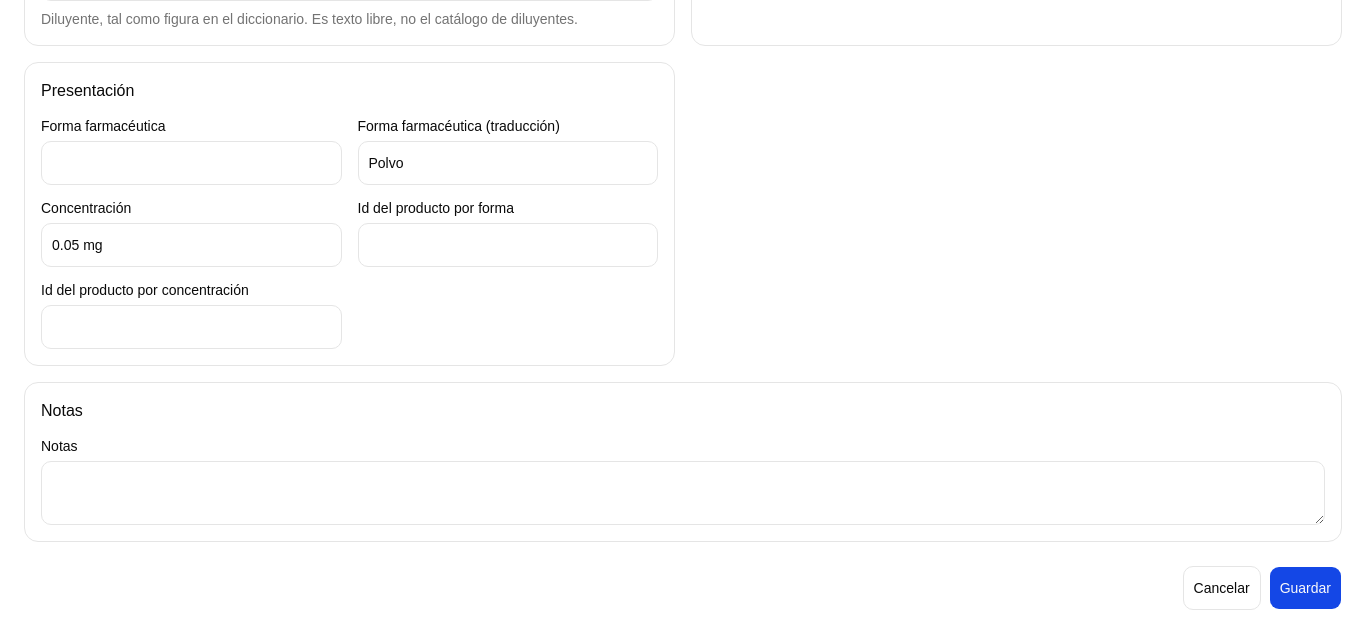
Test case: VaccineWhodrugFormPage — edición (SPEC FE25c §4 paso 8) › un 409 WHODRUG_004_EXTERNAL_ID_EXISTS pinta el error bajo externalId
(page scrolled)
Click the button "Guardar" at (1305, 588), box [1269, 566, 1342, 610]
(page scrolled)
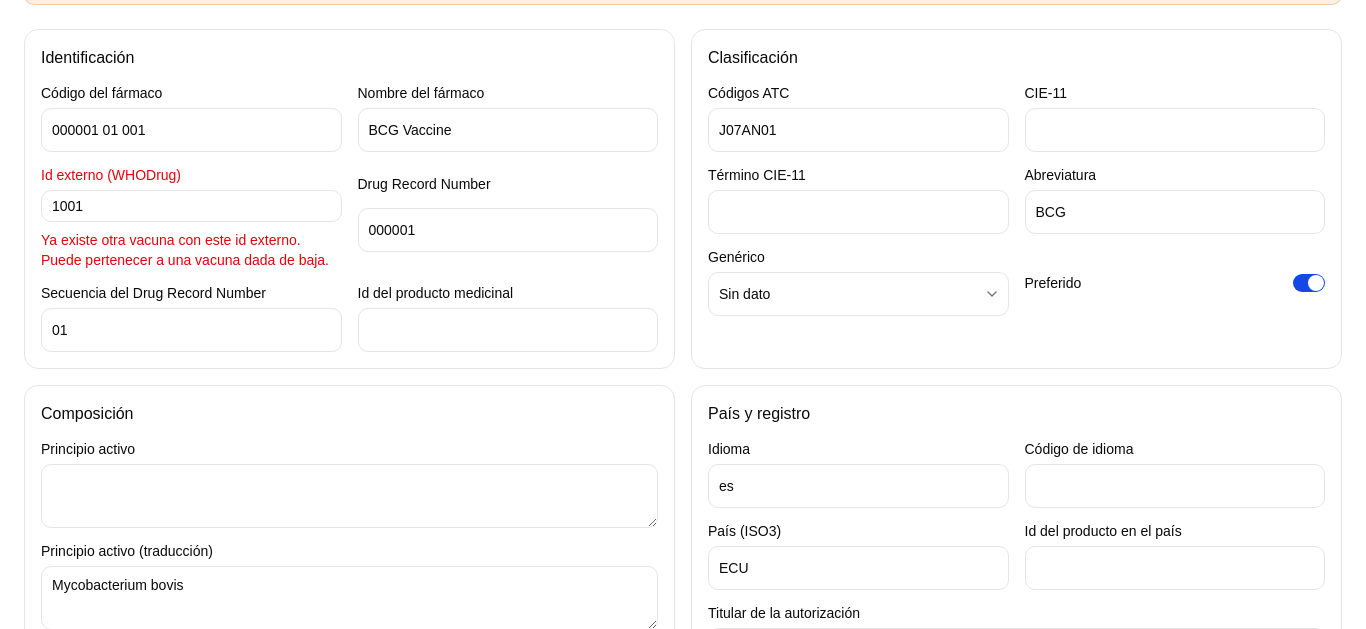
expect the text "Ya existe otra vacuna con este id externo. Puede pertenecer a una vacuna dada de baja." is shown: met, box [41, 232, 329, 268]
